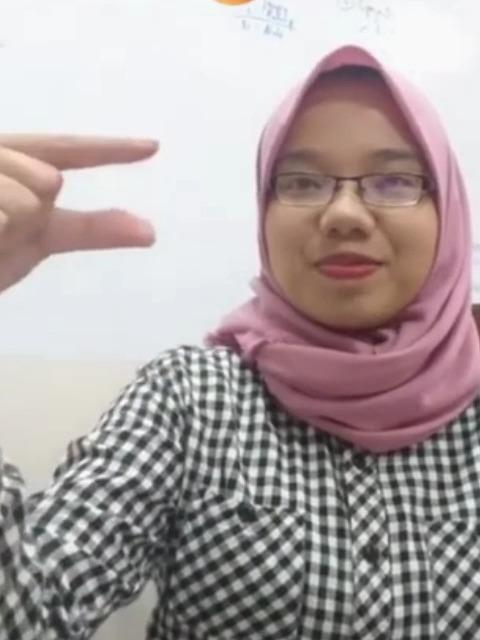G: (0, 102, 158, 296)
